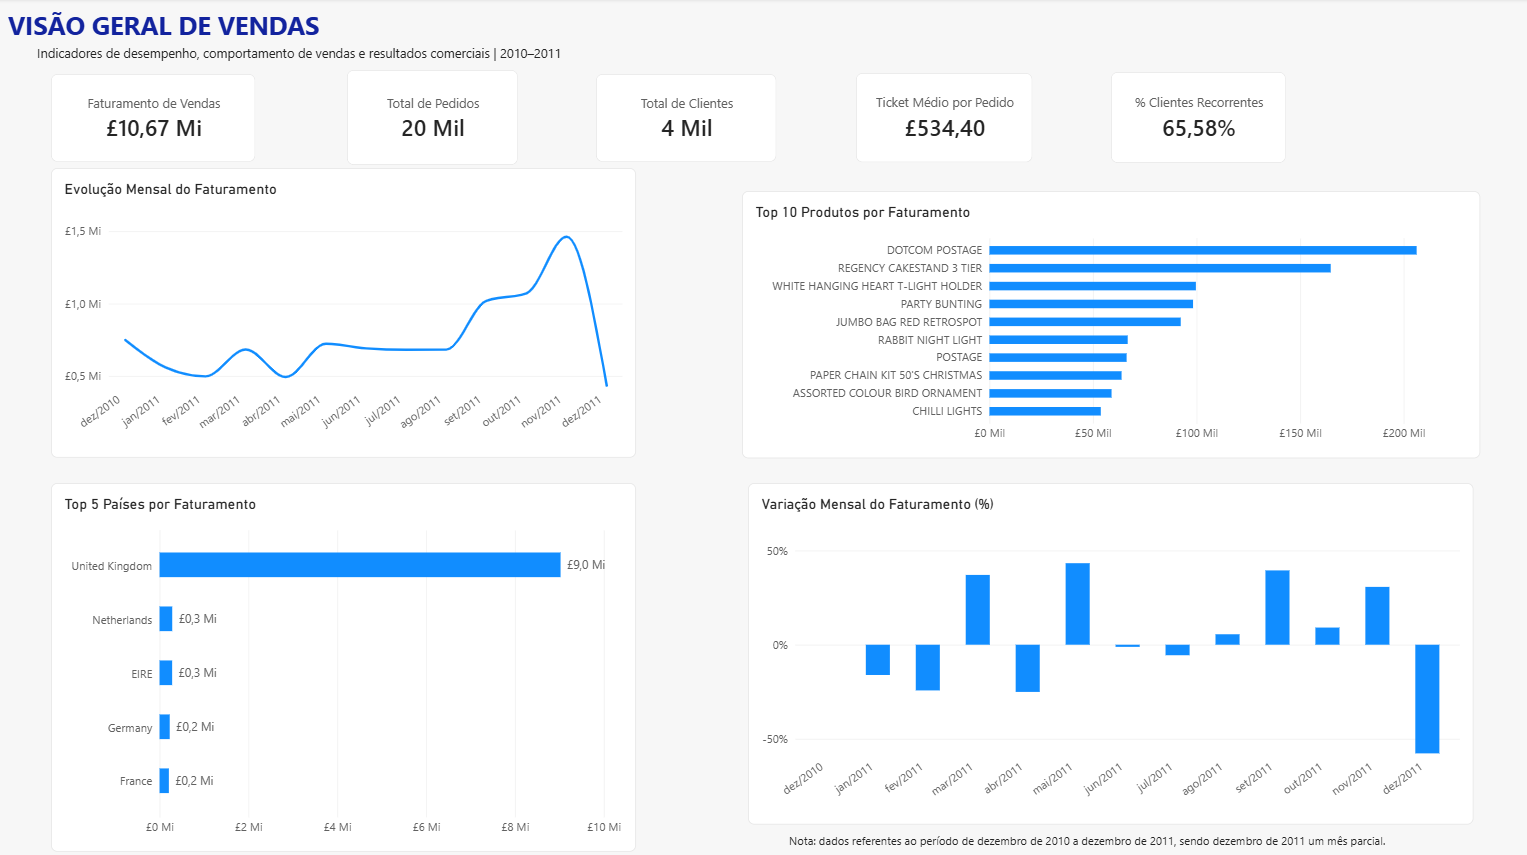

What the dashboard file says about the page in this screenshot:
{"tool":"powerbi","page":{"name":"01- Visão Geral","canvas":[1920,1080],"ordinal":0},"visuals":[{"type":"cardVisual","fields":{"Data":["Online Retail.Total de Pedidos"]},"box":[439.8,90.6,214.1,119.9],"z":0},{"type":"cardVisual","fields":{"Data":["Online Retail.Total de Clientes"]},"box":[752.3,95.1,226.2,110.7],"z":1000},{"type":"lineChart","title":"Evolução Mensal do Faturamento","fields":{"Category":["Online Retail.MesAno"],"Y":["Online Retail.Faturamento Total"]},"box":[68.5,213.3,733.4,362.8],"z":2000},{"type":"barChart","title":"Top 5 Países por Faturamento","fields":{"Category":["Online Retail.Country"],"Y":["Online Retail.Faturamento de Vendas"]},"box":[68.5,607.3,733.4,462.5],"z":3000},{"type":"barChart","title":"Top 10 Produtos por Faturamento","fields":{"Category":["Online Retail.Description"],"Y":["Online Retail.Faturamento Total"]},"box":[934.3,241.4,925,334.8],"z":4000},{"type":"columnChart","title":"\tVariação Mensal do Faturamento (%)","fields":{"Category":["Calendario.MesAno"],"Y":["Online Retail.Variação % Mensal"]},"box":[942.1,607.3,909.4,428.2],"z":5000},{"type":"cardVisual","fields":{"Data":["Online Retail.Ticket Médio por Pedido"]},"box":[1076.9,94.3,221.5,112.3],"z":6000},{"type":"cardVisual","fields":{"Data":["Online Retail.% Clientes Recorrentes"]},"box":[1396.8,93.3,219.5,114.5],"z":7000},{"type":"textbox","box":[15.6,10.9,531,79.4],"z":8000},{"type":"textbox","box":[51.4,57.6,750.6,37.4],"z":9000},{"type":"textbox","box":[993.5,1046.4,900,34.3],"z":10000},{"type":"cardVisual","fields":{"Data":["Online Retail.Faturamento de Vendas"]},"box":[68.5,95.2,256.9,110.6],"z":11000}]}

Visuals, with their boxes in screenshot pixels (x1, y1, x2, y2), scaled from the page's 1920x1080 canvas onto the 1527x855 screenshot:
cardVisual - Online Retail.Total de Pedidos: 350 72 520 167
cardVisual - Online Retail.Total de Clientes: 598 75 778 163
"Evolução Mensal do Faturamento" lineChart: 54 169 638 456
"Top 5 Países por Faturamento" barChart: 54 481 638 847
"Top 10 Produtos por Faturamento" barChart: 743 191 1479 456
"	Variação Mensal do Faturamento (%)" columnChart: 749 481 1473 820
cardVisual - Online Retail.Ticket Médio por Pedido: 856 75 1033 164
cardVisual - Online Retail.% Clientes Recorrentes: 1111 74 1285 165
textbox: 12 9 435 71
textbox: 41 46 638 75
textbox: 790 828 1506 854
cardVisual - Online Retail.Faturamento de Vendas: 54 75 259 163
